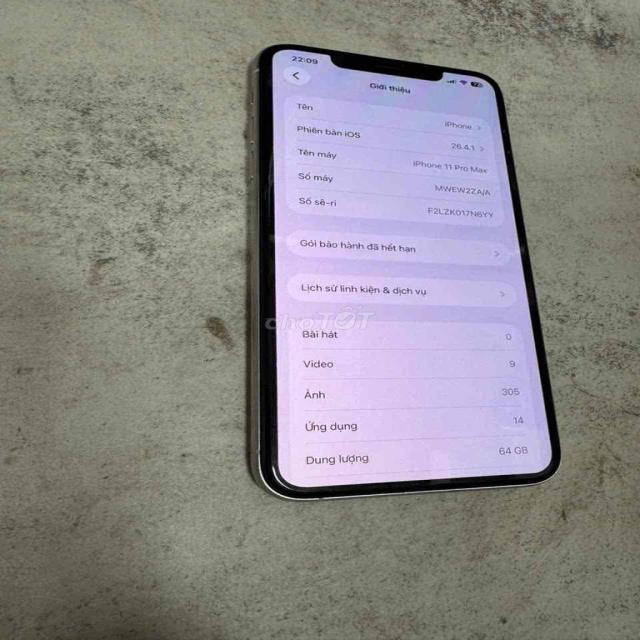gen_11: (245, 37, 579, 507)
